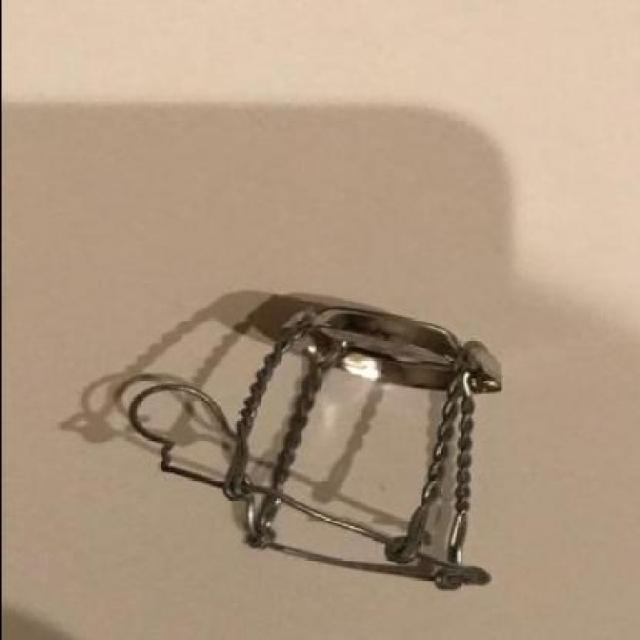METAL: (132, 305, 502, 590)
